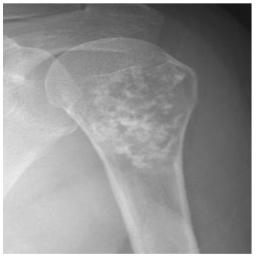cancer: (45, 49, 198, 253)
